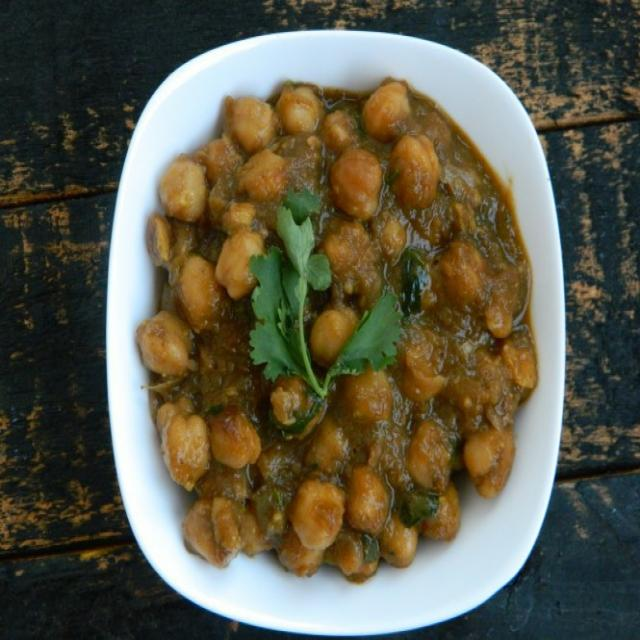Chole: (135, 80, 537, 582)
